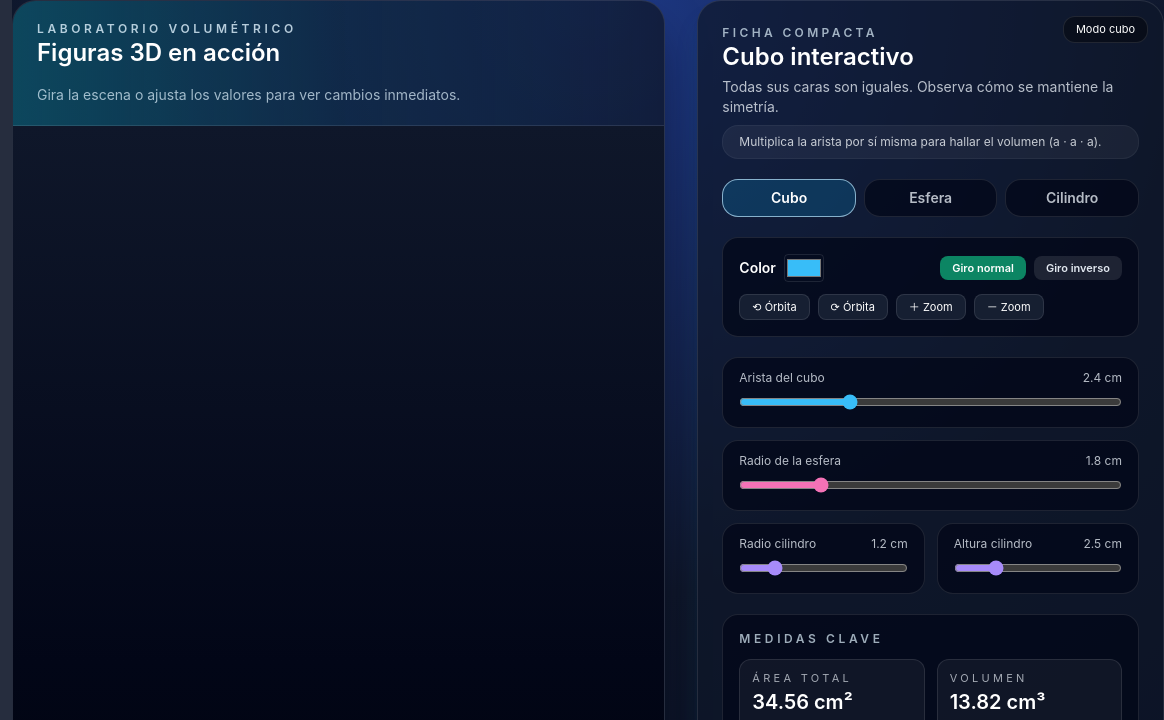
Test case: Shapes3DPage › actualiza las métricas cuando cambia la arista del cubo
Set the slider labelled "Arista del cubo 2.4 cm" to "4" at coordinates (967, 402), box x1=739 y1=394 x2=1122 y2=410
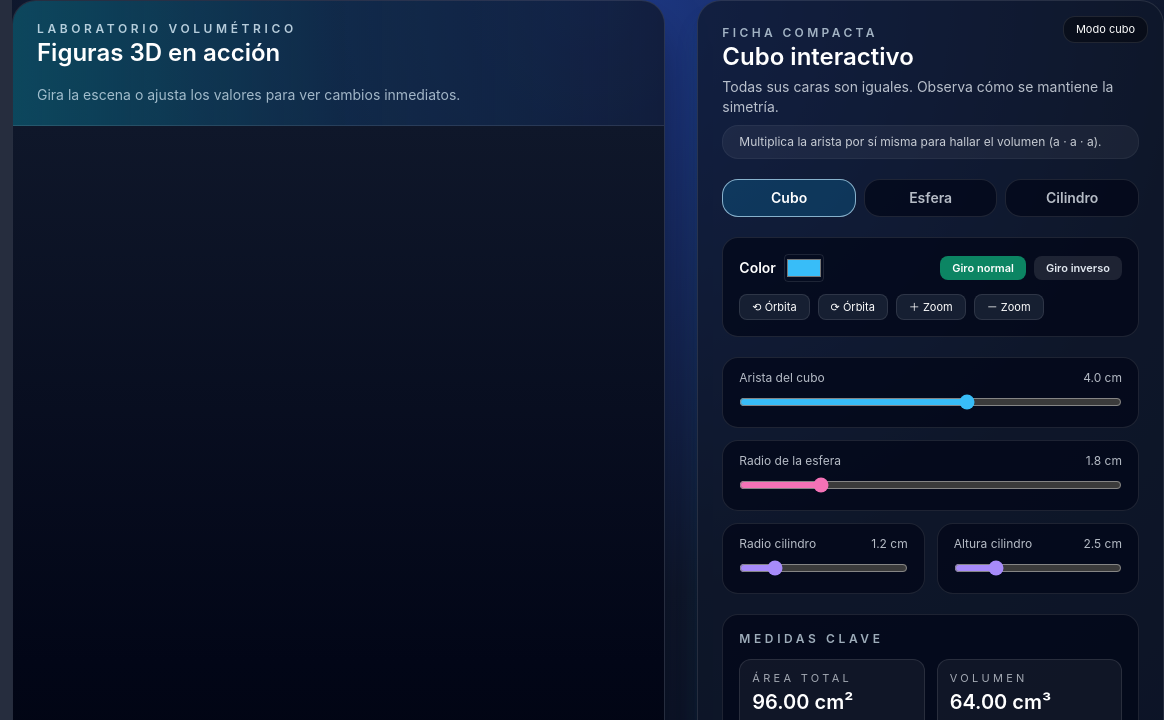
Expected: the text "96.00 cm²" is shown, x1=752 y1=690 x2=853 y2=714
Expected: the text "64.00 cm³" is shown, x1=950 y1=690 x2=1051 y2=714
